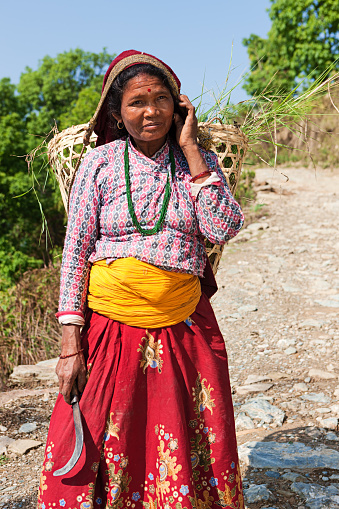em pe: (39, 54, 245, 498)
